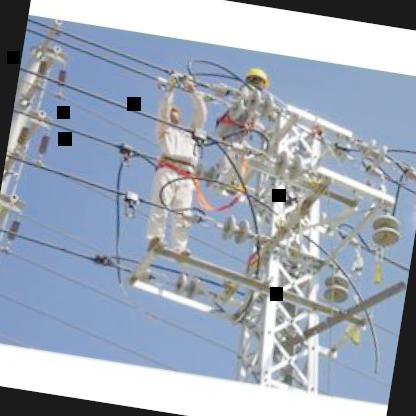helmet: (236, 61, 272, 98)
